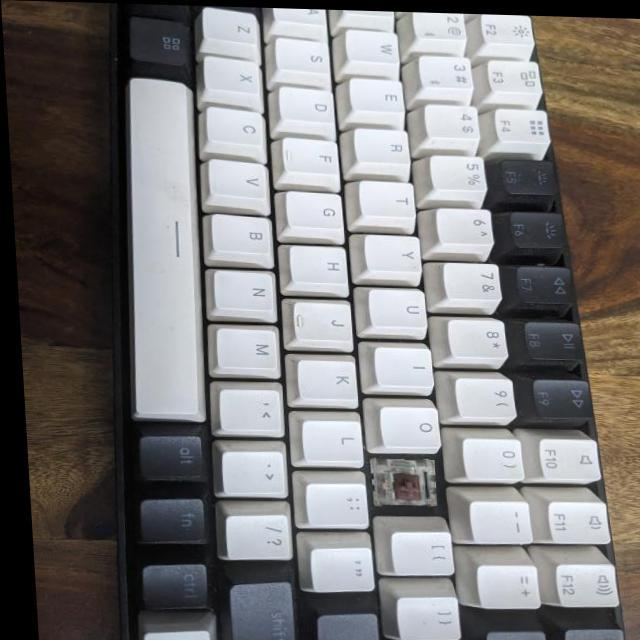key-switch: (368, 456, 430, 503)
